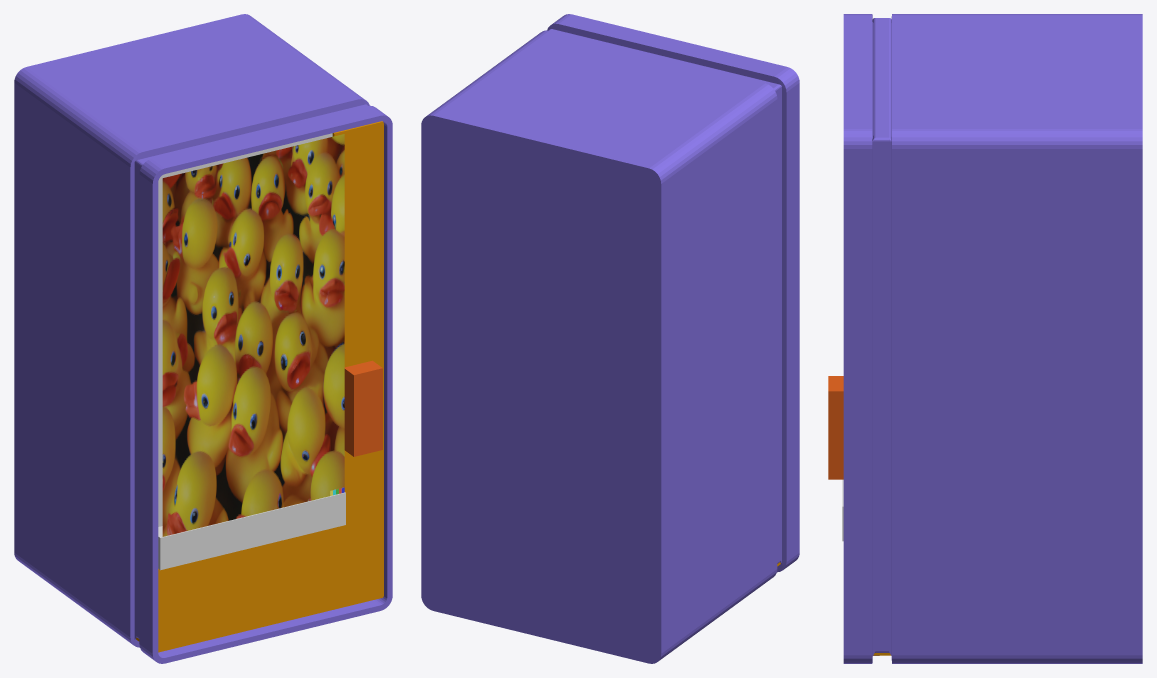
File: vending-machine.glb
The picture shows the model from 3 angles, left to right: view 1: azimuth 30°, elevation 25°; view 2: azimuth 150°, elevation 25°; view 3: azimuth 270°, elevation 25°; orthographic projection. The views are drawn at different scales.
Parts seen in each view (by area): view 1: Cube, DALL·E 2023-02-05 13.33.33 - wallpaper of rubber duckies, Cube.002, Cube.004, Cube.003, Plane; view 2: Cube; view 3: Cube, Cube.003.
Boxes of the visible parts, x1,y1,x2,y2 form: Cube: (14,14,392,663); DALL·E 2023-02-05 13.33.33 - wallpaper of rubber duckies: (162,134,344,536); Cube.002: (136,121,383,652); Cube.004: (158,492,345,570); Cube.003: (344,360,382,456); Plane: (158,133,332,526); Cube: (421,14,799,663); Cube: (843,14,1142,663); Cube.003: (828,376,843,479).
Size of the model in its own units: 4.69 by 9.25 by 4.94.
4 materials, 1 textured.
